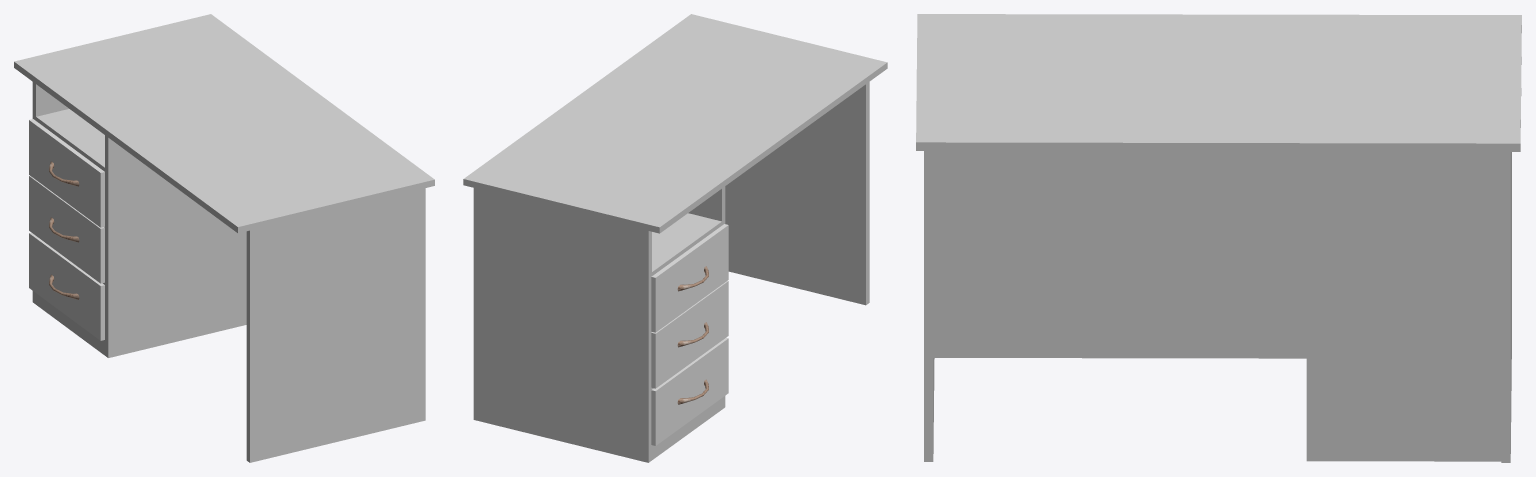
File: work-table-1.glb
3 renders of one model, left to right at view 1: azimuth 30°, elevation 25°; view 2: azimuth 150°, elevation 25°; view 3: azimuth 270°, elevation 25°, orthographic. The views are drawn at different scales.
Visible parts, largest first — view 1: Object035_wood_0, Box014_wood_0, Object037_wood_0, Object036_wood_0, handles; view 2: Object035_wood_0, Box014_wood_0, Object037_wood_0, Object036_wood_0, handles; view 3: Object035_wood_0.
Part boxes in pixels (x1,y1,x2,y2): Object035_wood_0: [14, 14, 434, 462]; Box014_wood_0: [29, 119, 104, 227]; Object037_wood_0: [29, 232, 104, 340]; Object036_wood_0: [29, 175, 104, 283]; handles: [49, 161, 79, 299]; Object035_wood_0: [463, 14, 887, 462]; Box014_wood_0: [651, 224, 728, 332]; Object037_wood_0: [651, 337, 728, 445]; Object036_wood_0: [651, 280, 728, 388]; handles: [677, 266, 708, 404]; Object035_wood_0: [916, 14, 1521, 462].
Size of the model in its own units: 0.6654 by 0.7712 by 1.31.
3 materials, 1 textured.
